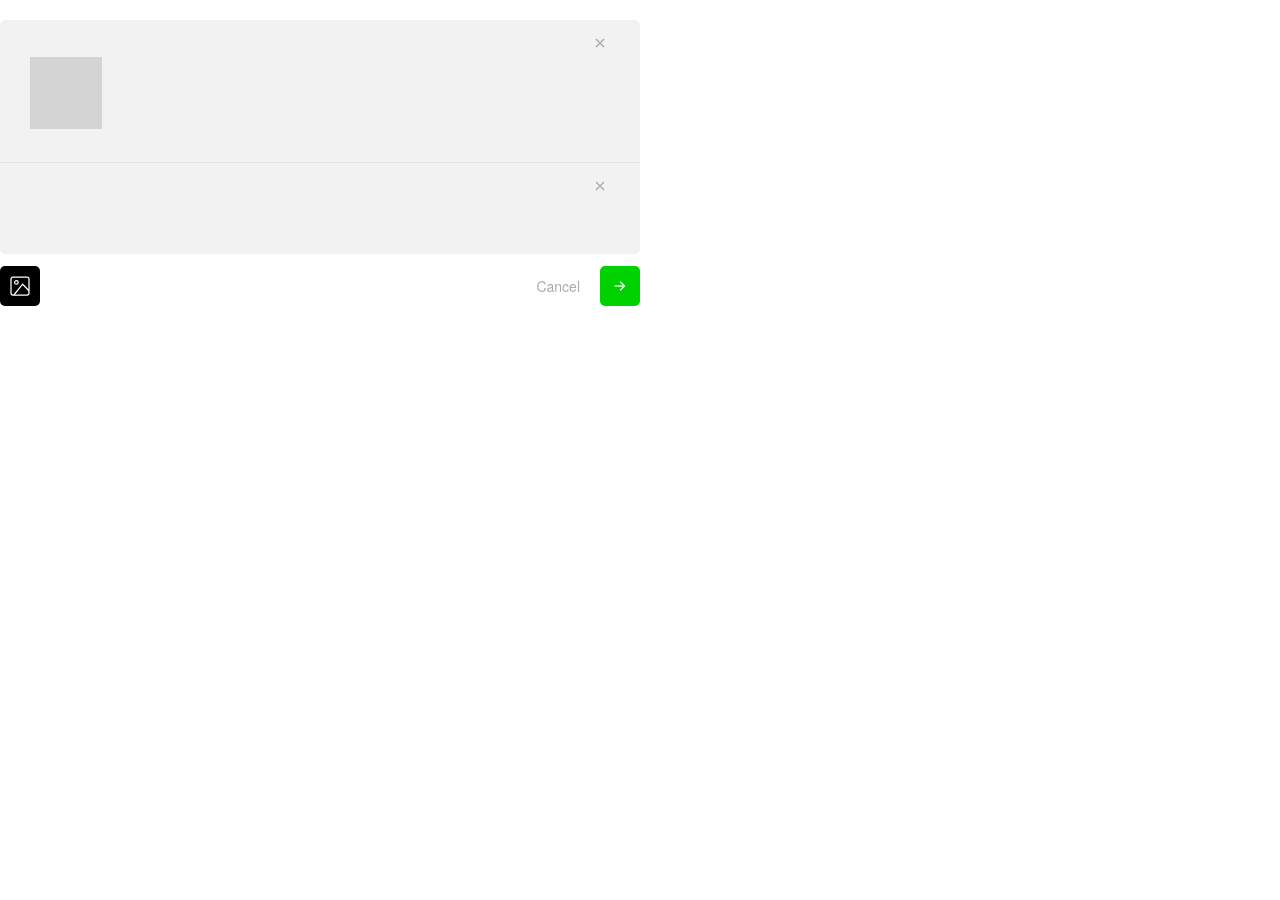
it: CommentForm images › removes a picture after the confirmation
Earlier steps of the test are not shown.
Expected: the button named "Comment" is enabled, [600,266,640,306]
Click the 1st button named "Remove" at [600, 42], box [590,31,610,54]
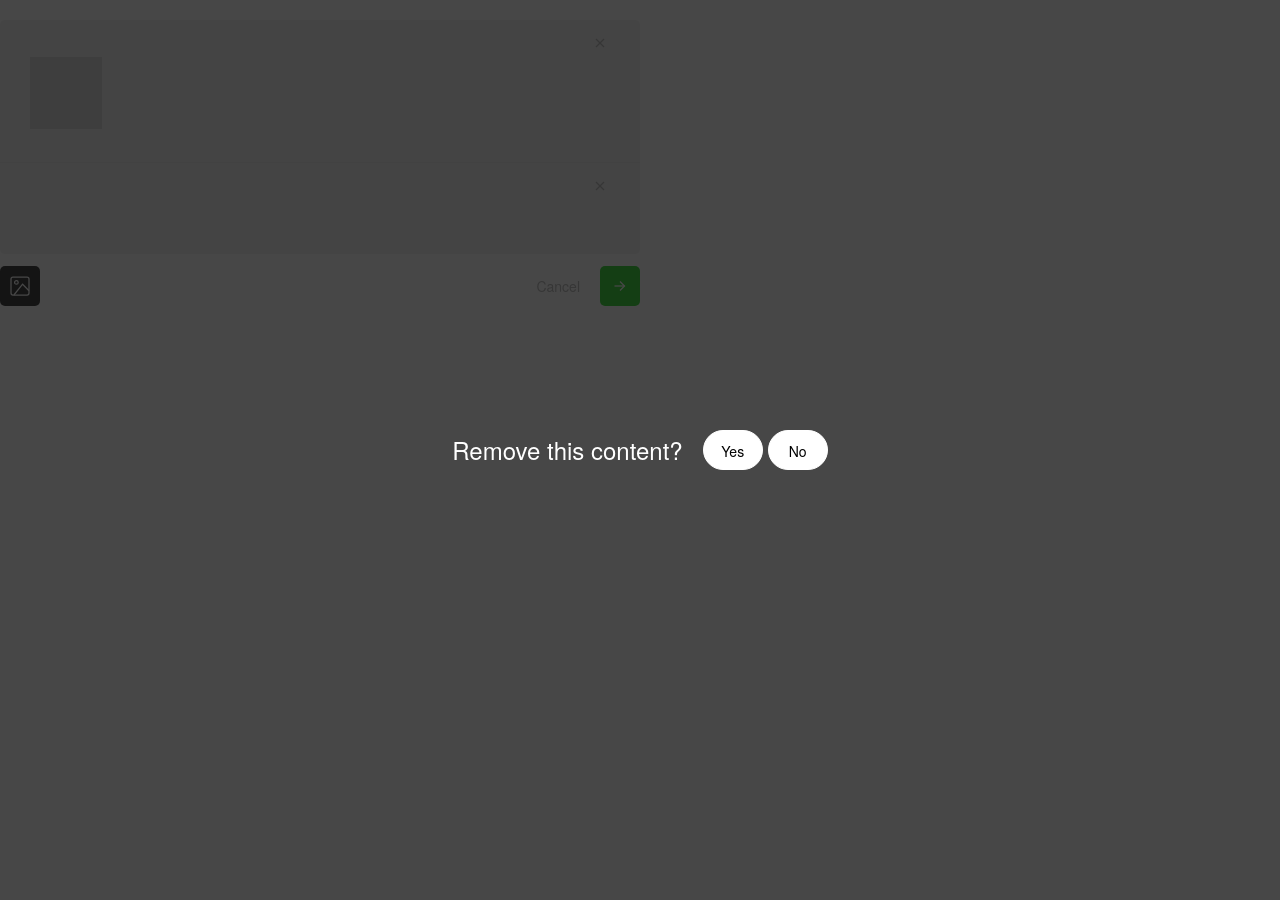
Click the button "Yes" at [733, 450], box [703,430,763,470]
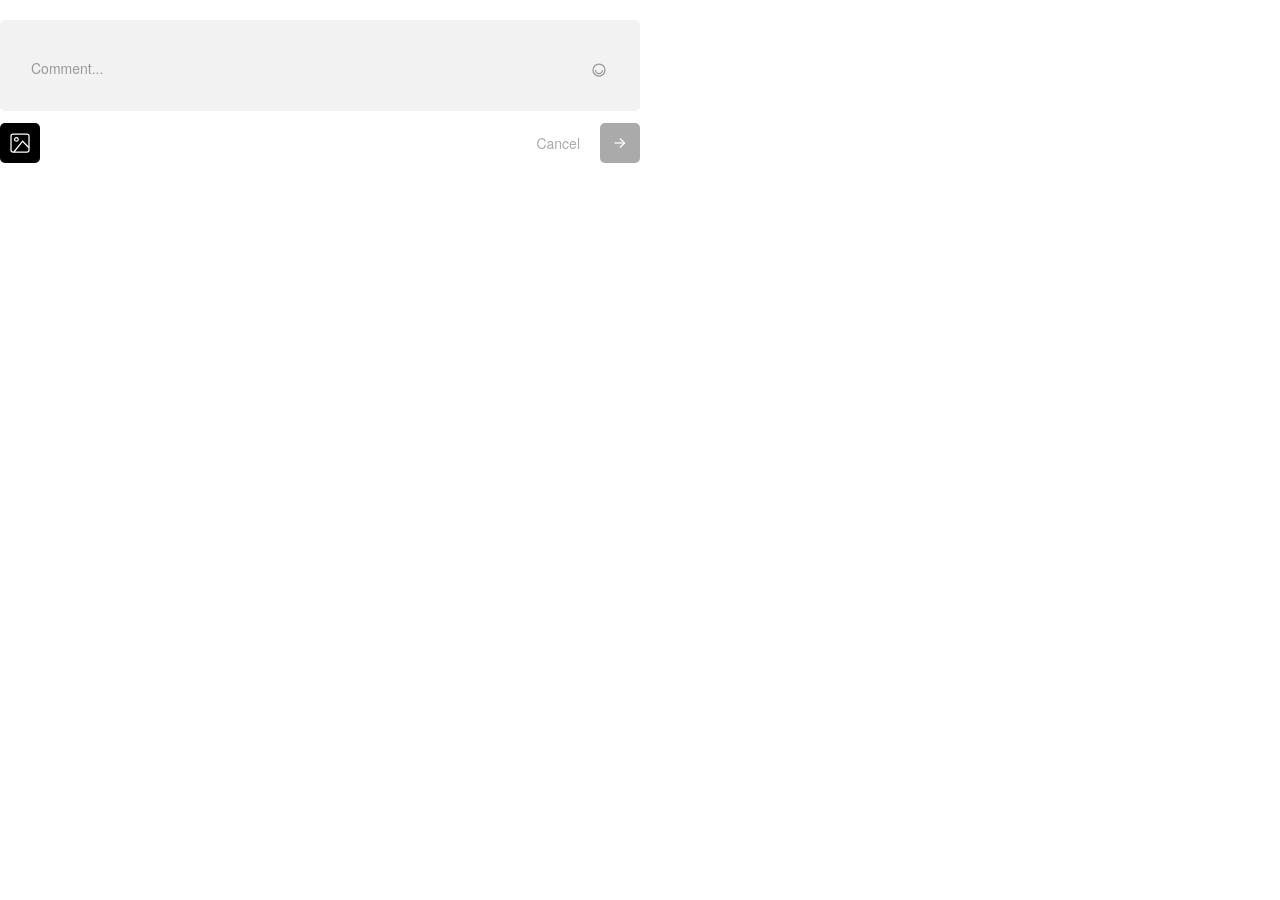
Expected: the picture is gone
Expected: the button named "Comment" is disabled, [600,123,640,163]
